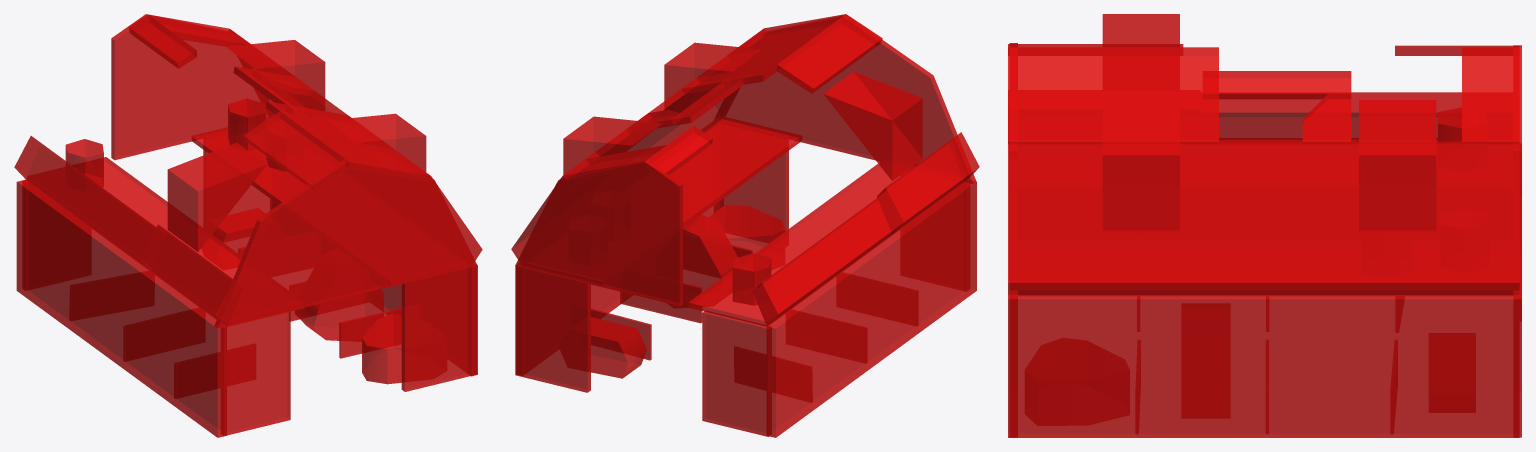
The model's file is SM_Bld_Barn_Broken_01_Collision.fbx.
The picture shows the model from 3 angles, left to right: view 1: azimuth 30°, elevation 25°; view 2: azimuth 150°, elevation 25°; view 3: azimuth 270°, elevation 25°; orthographic projection. The views are drawn at different scales.
Visible parts, largest first — view 1: SM_Bld_Barn_Broken_01_Collision; view 2: SM_Bld_Barn_Broken_01_Collision; view 3: SM_Bld_Barn_Broken_01_Collision.
Boxes of the visible parts, <box> form: SM_Bld_Barn_Broken_01_Collision: <box>14,14,482,437</box>; SM_Bld_Barn_Broken_01_Collision: <box>511,14,979,437</box>; SM_Bld_Barn_Broken_01_Collision: <box>1008,14,1521,437</box>.
Size of the model in its own units: 815 by 732 by 1068.
